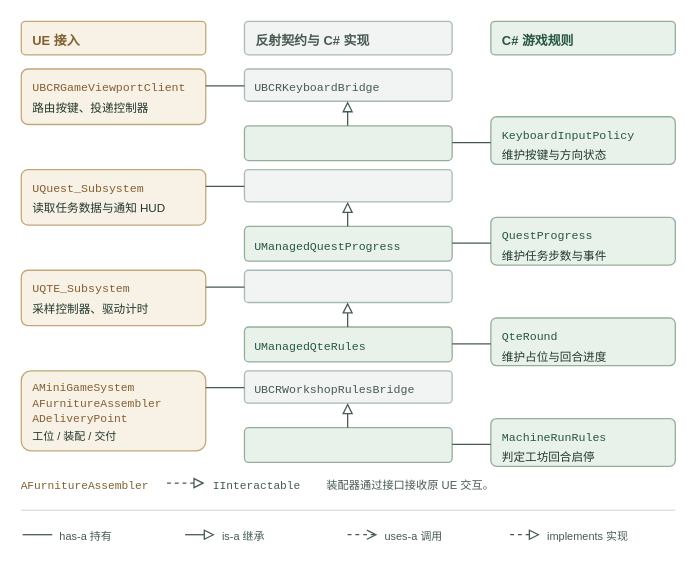
This 697x565 diagram has some shape labels left out. The shapes that lost their labels are listed below. From the top down, each one's centre as x and y in pixels, then its label:
[347,142]: UManagedKeyboardInput
[347,185]: UBCRQuestBridge
[347,286]: UBCRQteRulesBridge
[347,444]: UManagedWorkshopRules
